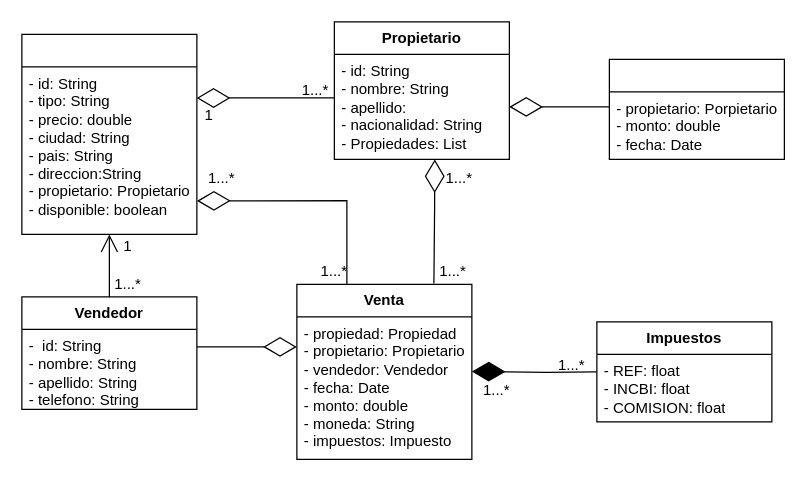
Image size: 806x485. Some labels were removed from this diagram. The shapes that lost their labels are listed below. From the top down, each one's box as (x1, y1, x2, y2) in pixels, then its label:
(608, 58, 784, 159): Multa
(21, 33, 197, 234): Propiedad
